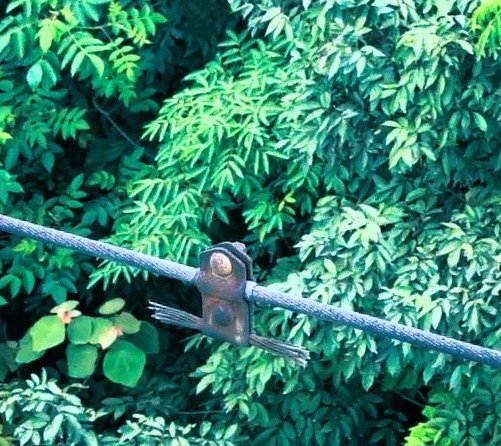Damage of shockproof hammer: (142, 234, 316, 371)
